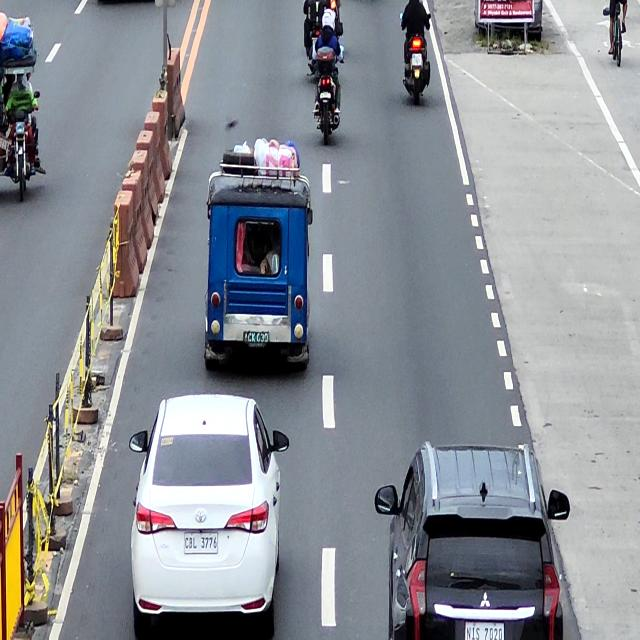Bicycle: (604, 0, 628, 67)
Car: (128, 395, 288, 640), (374, 442, 570, 640), (204, 173, 311, 379)
License-Plate: (183, 532, 219, 555), (464, 621, 504, 640), (242, 332, 270, 348), (412, 54, 422, 67), (321, 92, 331, 98)
Motorcycle: (314, 42, 346, 142), (399, 12, 430, 108), (304, 1, 325, 78)
Tricycle: (0, 60, 42, 202)
